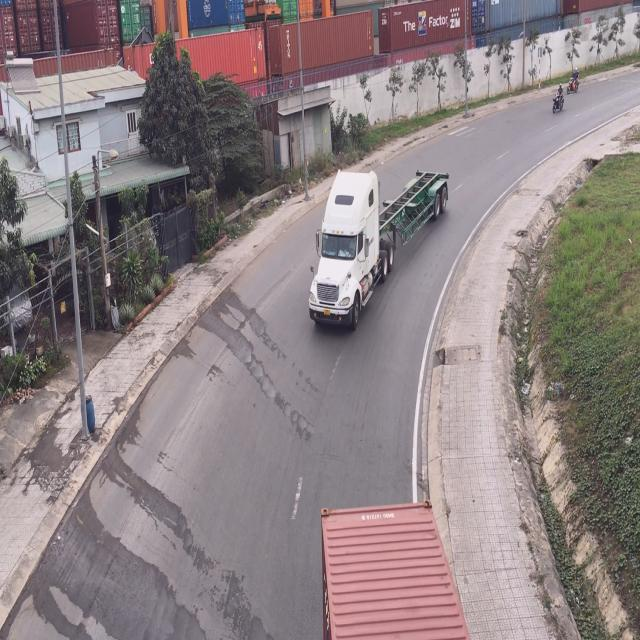motorbike: (551, 86, 566, 116), (566, 68, 580, 98)
truck: (314, 170, 454, 332), (320, 502, 475, 639)
